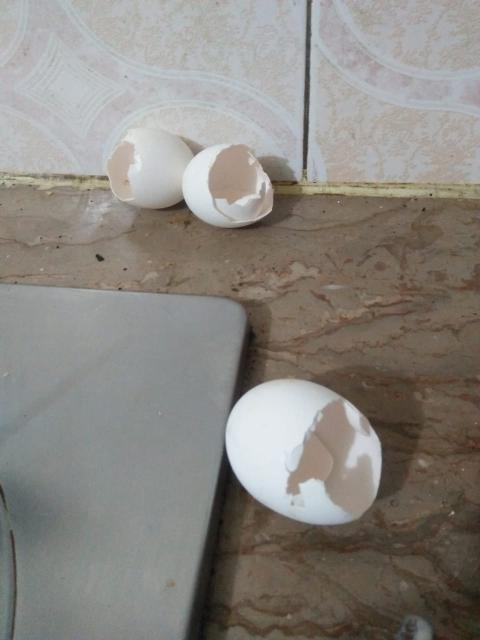Roto: (225, 375, 383, 526), (181, 142, 274, 228), (105, 126, 193, 210)
